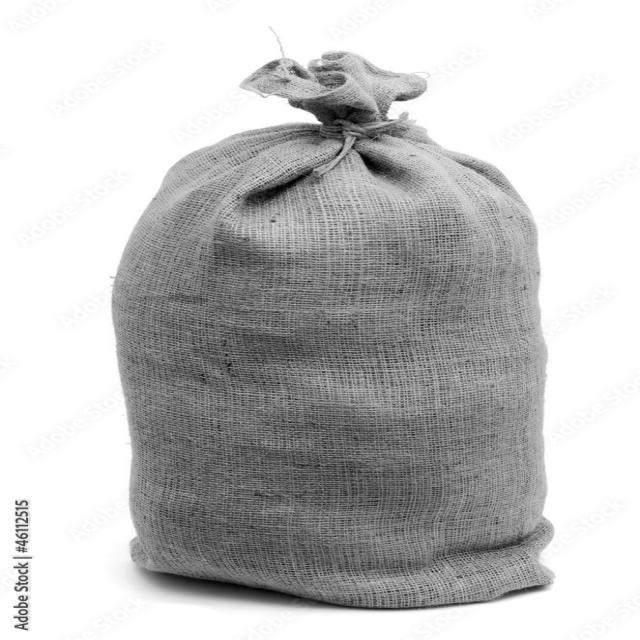sack: (111, 49, 554, 609)
